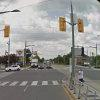Crosswalk: (4, 73, 69, 95)
